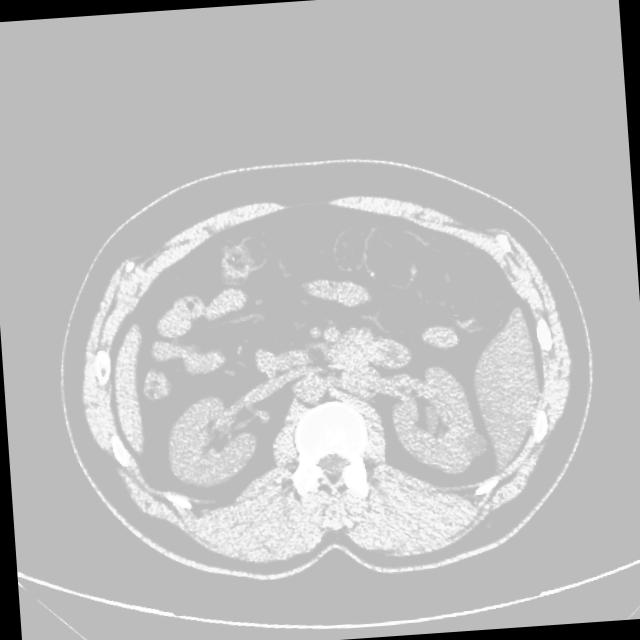cysts: (58, 157, 594, 592)
